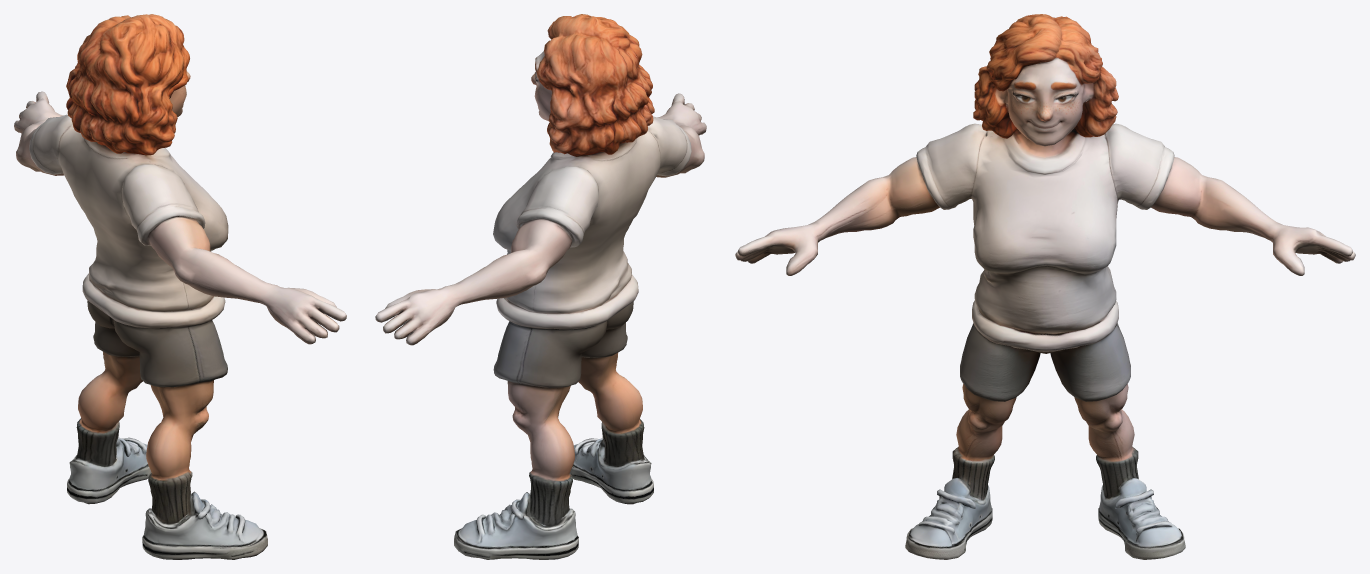
3 renders of one model, left to right at view 1: azimuth 30°, elevation 25°; view 2: azimuth 150°, elevation 25°; view 3: azimuth 270°, elevation 25°, orthographic.
Parts seen in each view (by area): view 1: tripo_node_2eeeaf3f; view 2: tripo_node_2eeeaf3f; view 3: tripo_node_2eeeaf3f.
Boxes of the visible parts, bbox=[...] form: tripo_node_2eeeaf3f: bbox=[14, 14, 346, 559]; tripo_node_2eeeaf3f: bbox=[375, 14, 706, 559]; tripo_node_2eeeaf3f: bbox=[735, 14, 1355, 559].
Size of the model in its own units: 25.24 by 90.8 by 100.
Materials: 1 (1 with a texture image).
